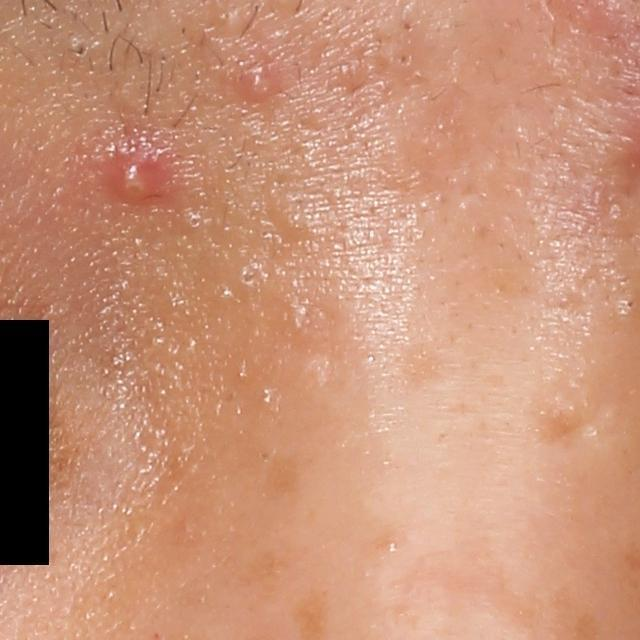comedo: (615, 297, 637, 317), (240, 266, 256, 290)
melasma: (237, 541, 299, 591), (269, 447, 308, 503)
